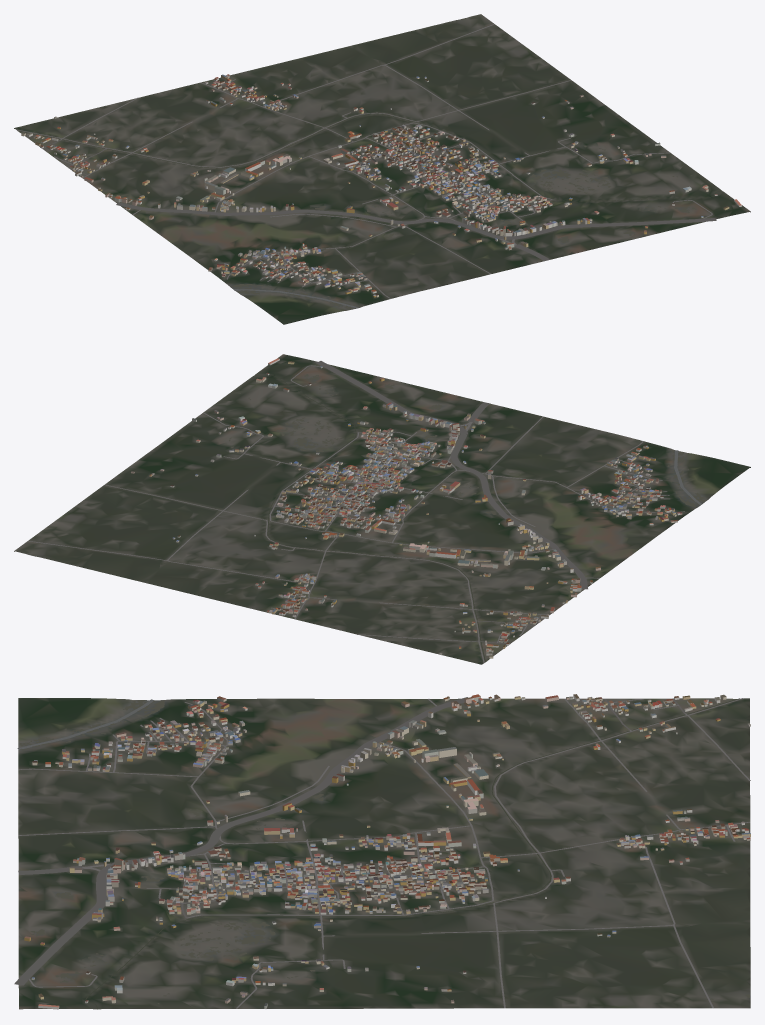
3 views of the same model, one above another, from view 1: azimuth 30°, elevation 25°; view 2: azimuth 150°, elevation 25°; view 3: azimuth 270°, elevation 25° (orthographic). The views are drawn at different scales.
Parts seen in each view (by area): view 1: ground, buildings, roads, water; view 2: ground, buildings, roads, water; view 3: ground, buildings, roads, water.
Part boxes in pixels (x1,y1,x2,y2): ground: (14,14,750,324); buildings: (21,74,741,297); roads: (16,24,716,298); water: (18,18,721,309); ground: (14,354,750,664); buildings: (131,358,682,658); roads: (28,361,684,662); water: (30,374,706,662); ground: (18,698,750,1009); buildings: (24,694,750,1009); roads: (14,697,750,1008); water: (17,698,749,1009).
Bounding box in the file's own units: 1414 × 28.15 × 1412.
